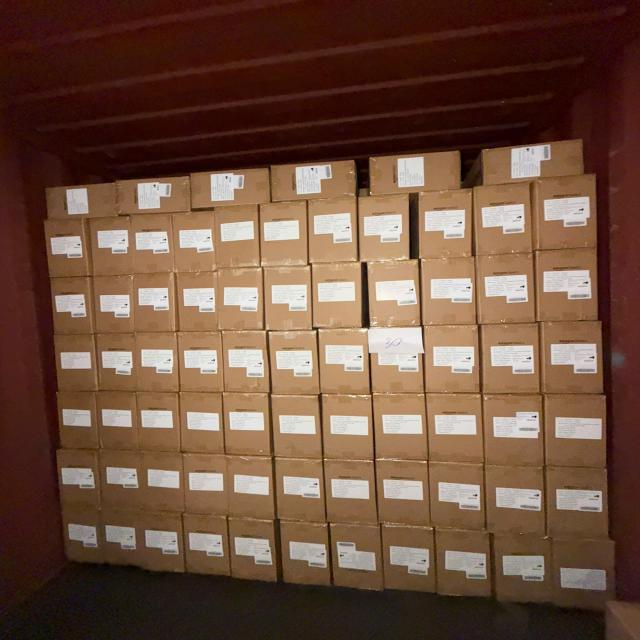Carton: (480, 137, 590, 187), (532, 175, 598, 251), (540, 319, 606, 395), (542, 392, 607, 469), (545, 464, 609, 540), (534, 249, 599, 323), (550, 538, 615, 612), (493, 536, 556, 609), (483, 394, 544, 468), (366, 150, 462, 197), (483, 463, 545, 535), (476, 250, 536, 324), (472, 184, 532, 256), (427, 458, 485, 531), (426, 392, 484, 465), (482, 324, 542, 394), (438, 528, 495, 600), (416, 187, 472, 258), (379, 525, 434, 597), (189, 163, 271, 211), (420, 255, 476, 325), (426, 325, 482, 395), (274, 158, 357, 204), (372, 393, 427, 462), (365, 259, 420, 328), (367, 328, 422, 397), (331, 524, 385, 594), (374, 461, 428, 530), (356, 192, 409, 260), (280, 521, 332, 590), (326, 458, 379, 525), (324, 394, 376, 462), (315, 262, 368, 328), (321, 328, 372, 396), (271, 394, 323, 460), (274, 457, 326, 523), (114, 173, 191, 217), (269, 330, 320, 396), (136, 510, 188, 574), (231, 518, 281, 584), (310, 196, 360, 262), (263, 263, 312, 330), (261, 199, 309, 266), (170, 208, 220, 272), (138, 448, 188, 512), (225, 455, 274, 520), (222, 393, 271, 457), (98, 448, 147, 512), (183, 516, 230, 582), (44, 216, 92, 280), (221, 330, 269, 393), (128, 211, 175, 274), (218, 266, 264, 330), (216, 207, 262, 270), (179, 392, 224, 456), (99, 507, 145, 569), (46, 180, 117, 220), (176, 270, 221, 332), (59, 506, 104, 568), (180, 329, 224, 392), (183, 456, 227, 519), (131, 272, 176, 333), (136, 392, 180, 454), (89, 215, 133, 276), (57, 450, 100, 511), (51, 278, 94, 337), (137, 331, 179, 391), (95, 275, 137, 334), (56, 333, 98, 391), (98, 332, 139, 391), (58, 392, 98, 452), (99, 393, 139, 453)
